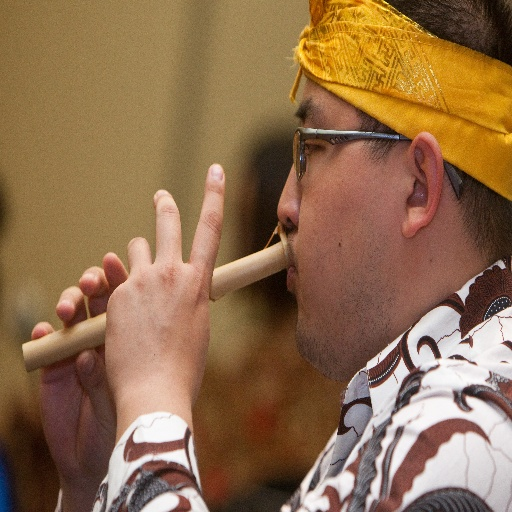hand: (88, 169, 240, 436), (29, 250, 131, 487)
